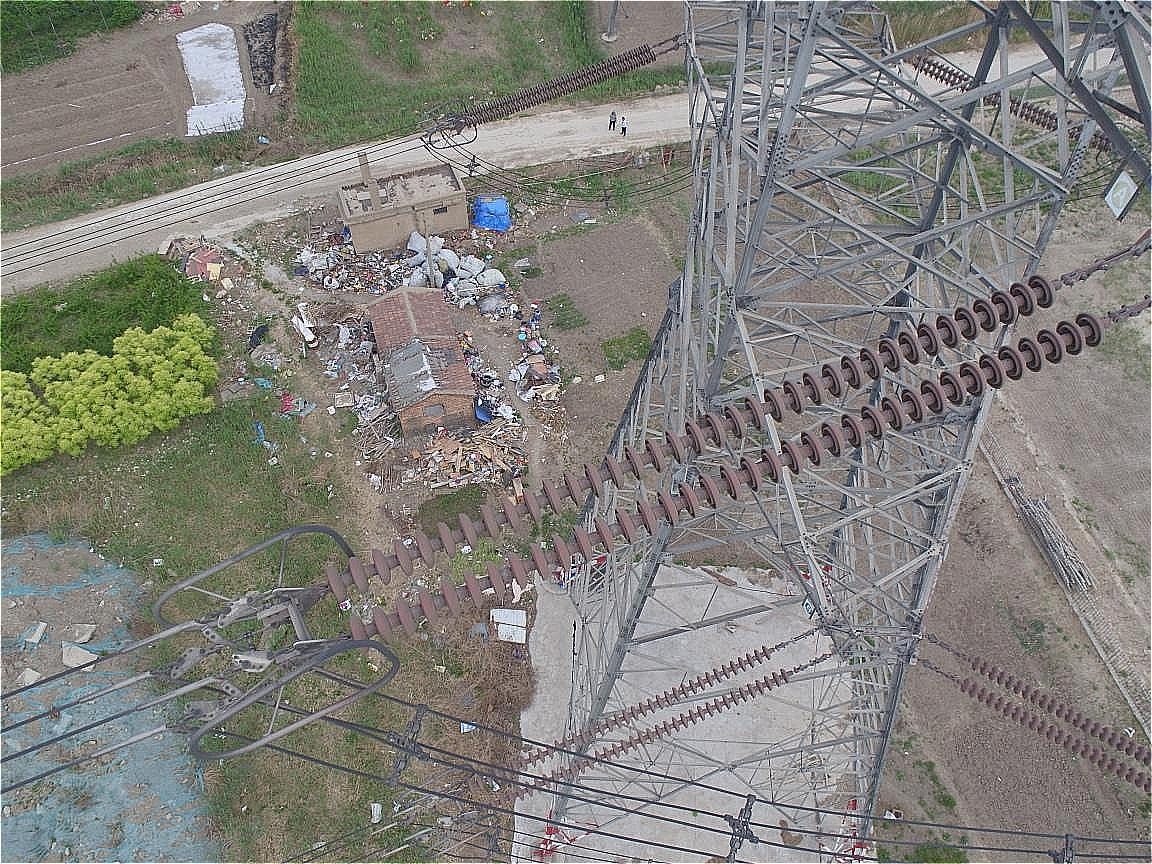insultor1: (286, 253, 1110, 658), (474, 631, 794, 829), (950, 636, 1152, 803)
insultor2: (456, 34, 665, 134)
